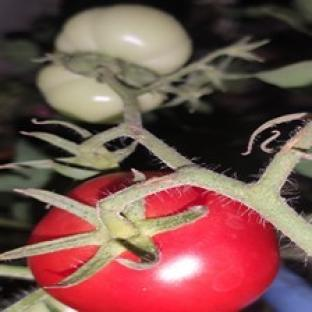Tomato: (46, 186, 278, 311), (56, 5, 192, 75), (37, 65, 123, 123)
